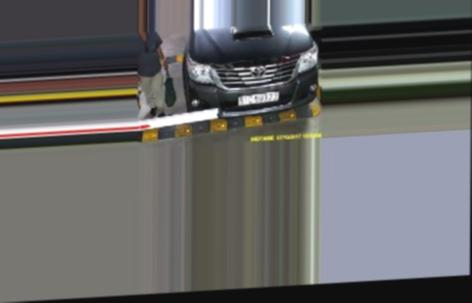License_Plate: (238, 89, 282, 106)
